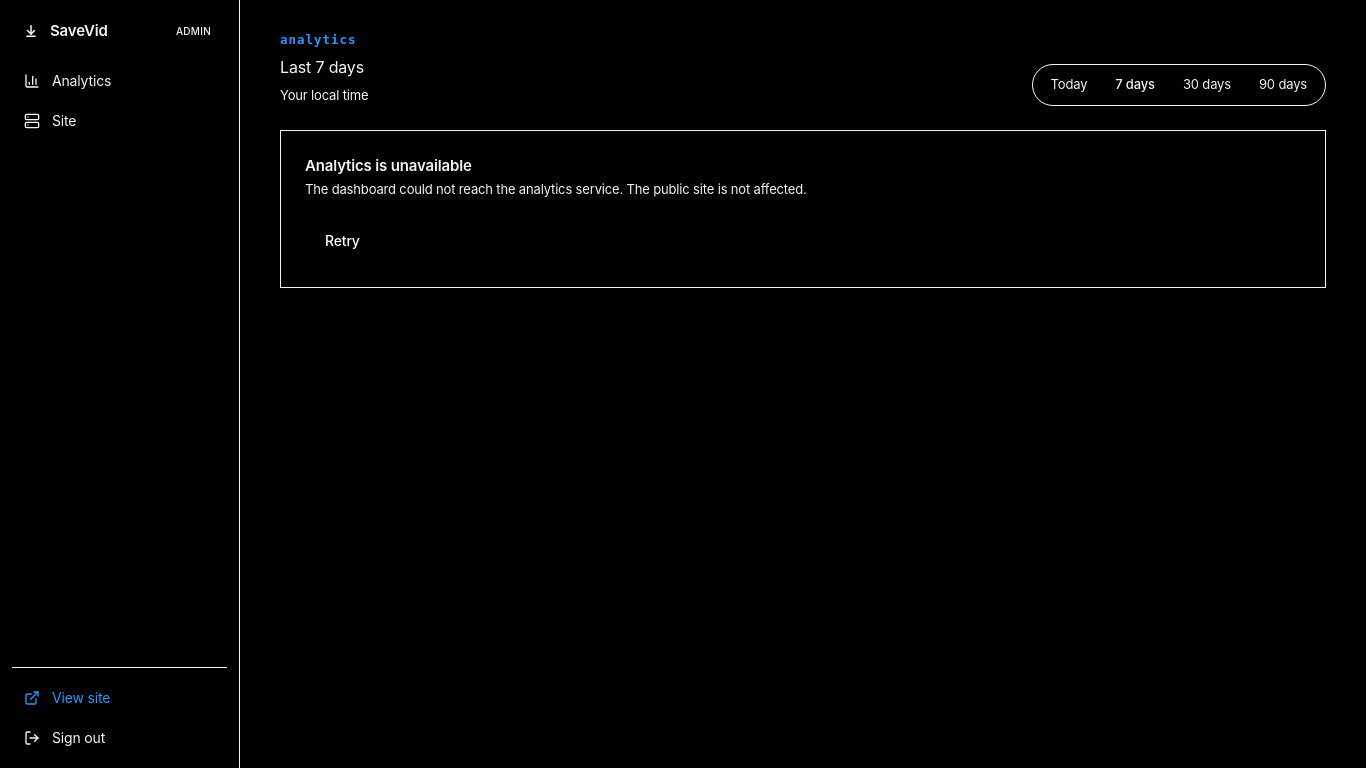
a failed first report keeps the shell: the nav stays and the Site page shows the maintenance switch and resolver health
Expected: the heading "Analytics is unavailable" is shown, [305, 156, 472, 175]
Expected: the button "Sign out" is shown, [12, 720, 227, 756]
What coordinates should you click on to do the following:
click the button "Site"
I would click on:
 (120, 120)
Its box is [12, 102, 227, 138].
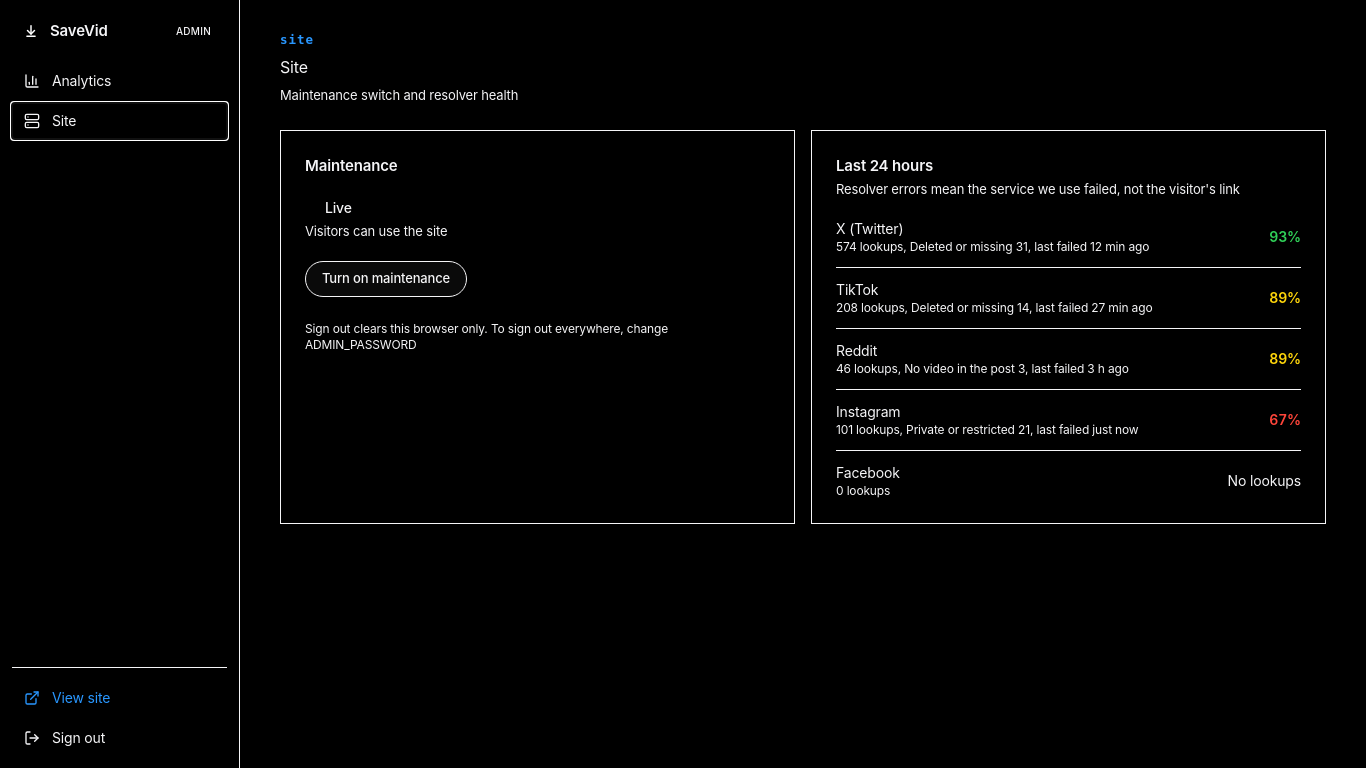
Expected: the heading "Site" is shown, [280, 57, 308, 77]
Expected: the button "Turn on maintenance" is shown, [305, 261, 467, 297]
Expected: the text "X (Twitter)" is shown, [836, 220, 903, 237]
